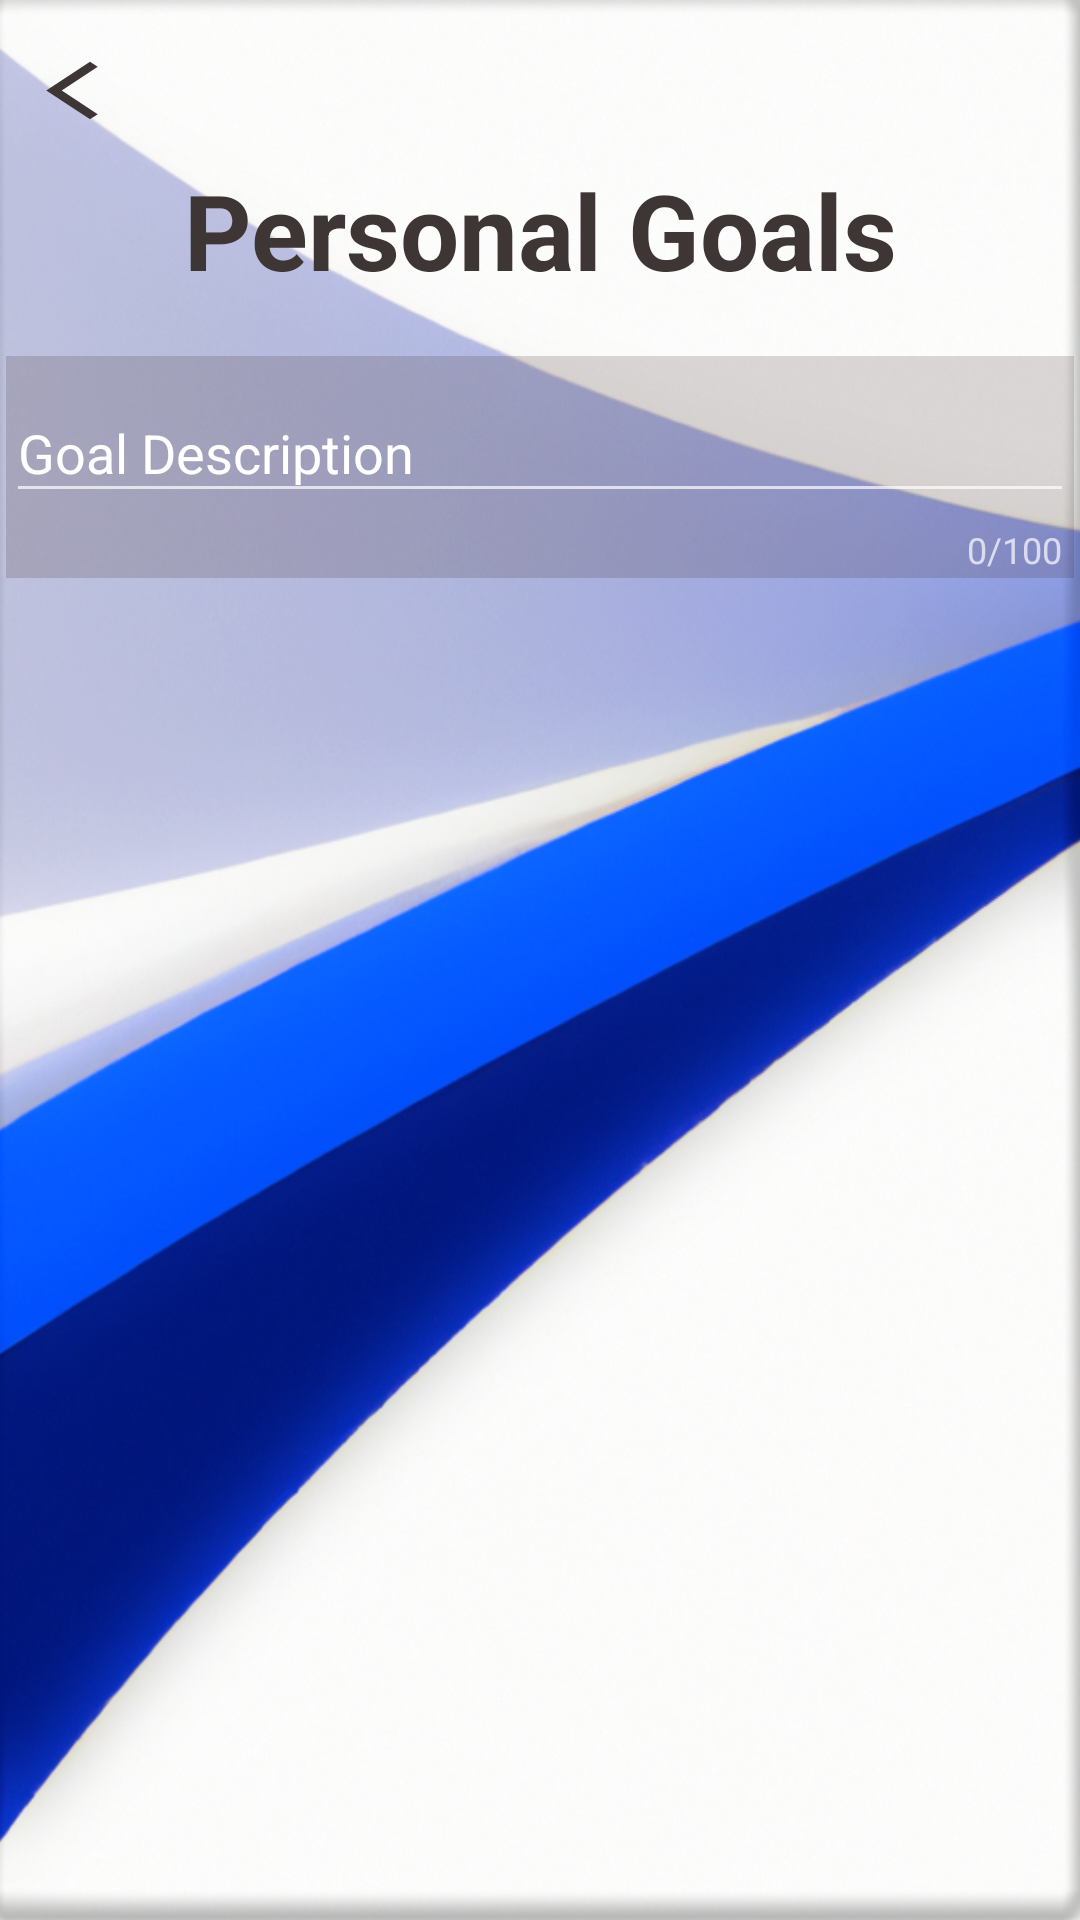

Icon click points for this 1080×1920 phone screenshot, format point (x, y):
arrow back: point (72, 90)
